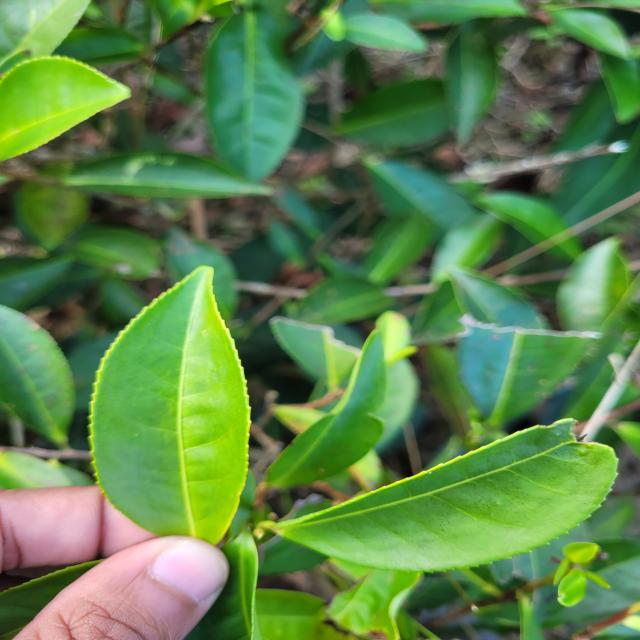Category B(2-4 days): (81, 256, 267, 551)
